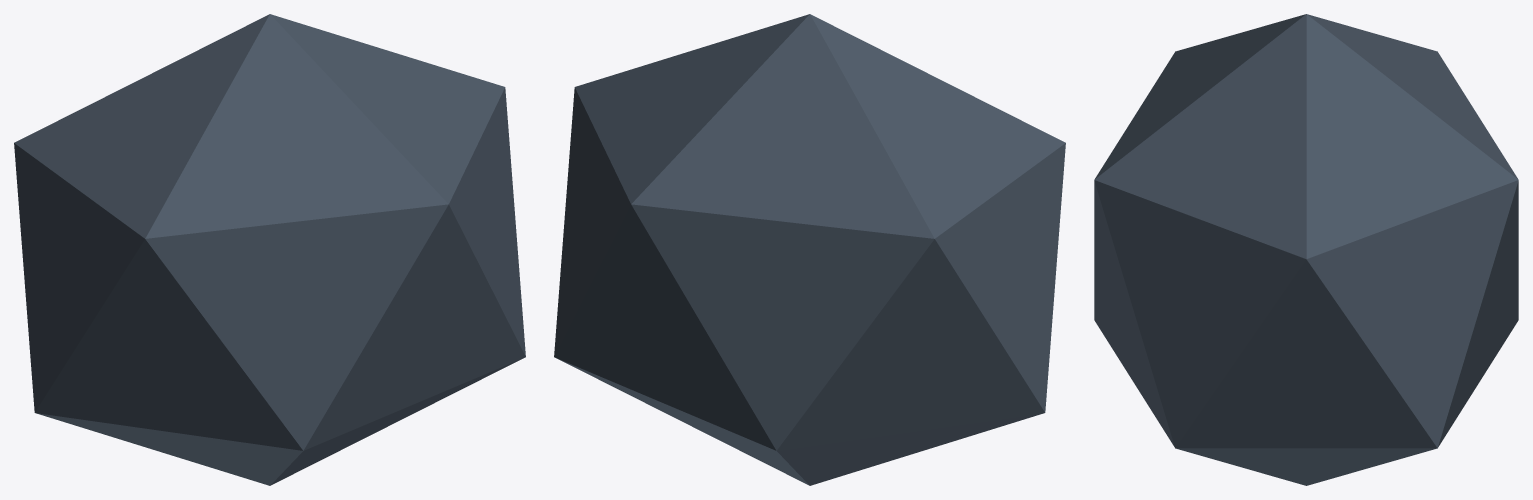
File: basalt_ore.glb
3 views of the same model, side by side, from view 1: azimuth 30°, elevation 25°; view 2: azimuth 150°, elevation 25°; view 3: azimuth 270°, elevation 25° (orthographic).
Visible parts, largest first — view 1: mineral; view 2: mineral; view 3: mineral.
Part boxes in pixels (bbox=[...]): mineral: bbox=[14, 14, 525, 485]; mineral: bbox=[554, 14, 1065, 485]; mineral: bbox=[1094, 14, 1518, 485].
Size of the model in its own units: 0.5009 by 0.48 by 0.3913.
